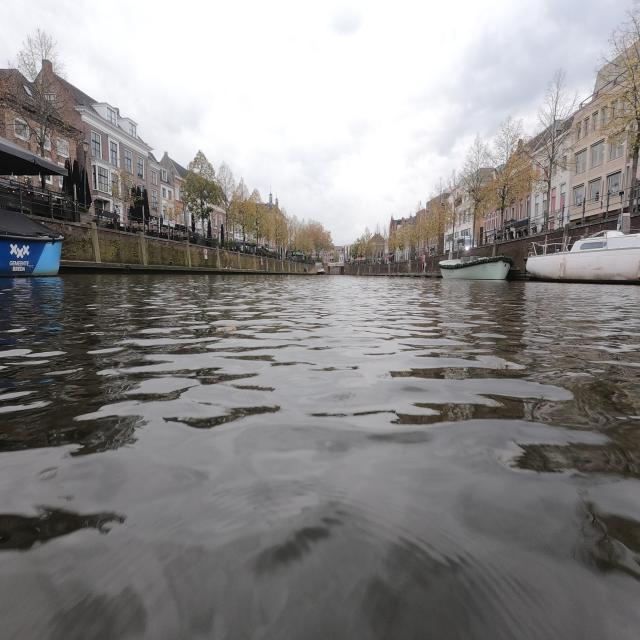boat: (526, 231, 640, 281), (439, 255, 513, 280), (9, 243, 30, 259)
dock: (60, 260, 310, 275)
water: (0, 274, 640, 639)
